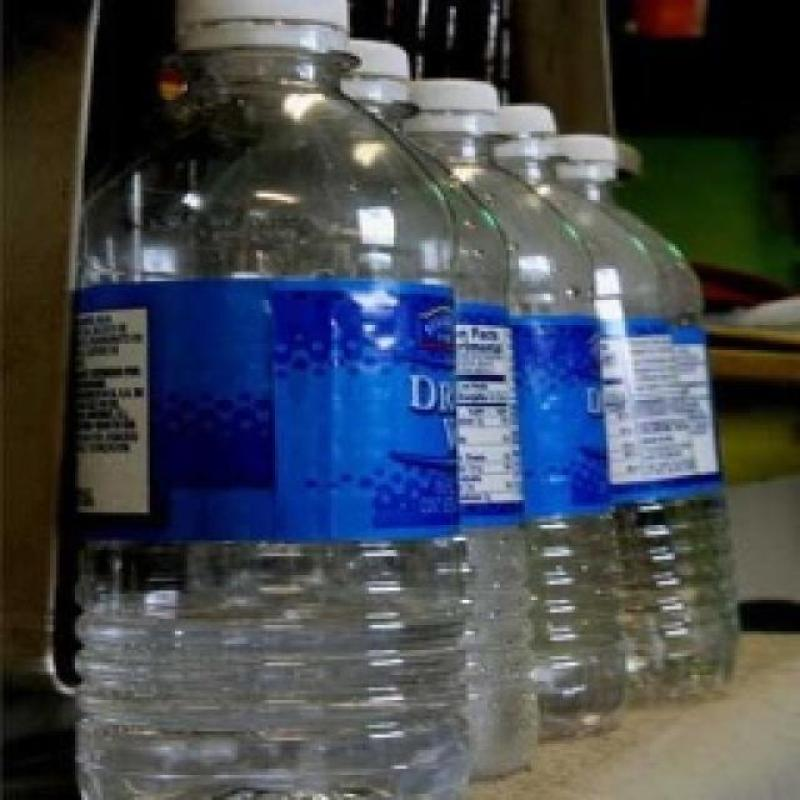botella: (69, 0, 475, 800), (320, 36, 540, 774), (403, 81, 625, 744), (487, 106, 728, 704), (550, 134, 740, 678)
